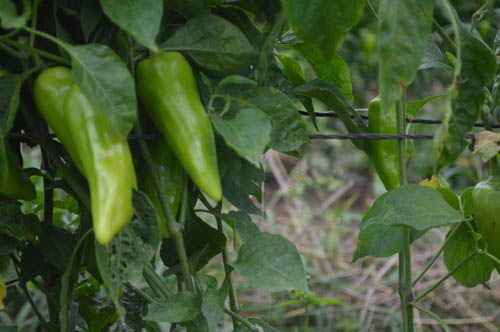ChiliPepper: (140, 53, 227, 194), (64, 88, 133, 243), (34, 69, 82, 165), (142, 144, 183, 226), (367, 99, 404, 188), (476, 186, 498, 266)
